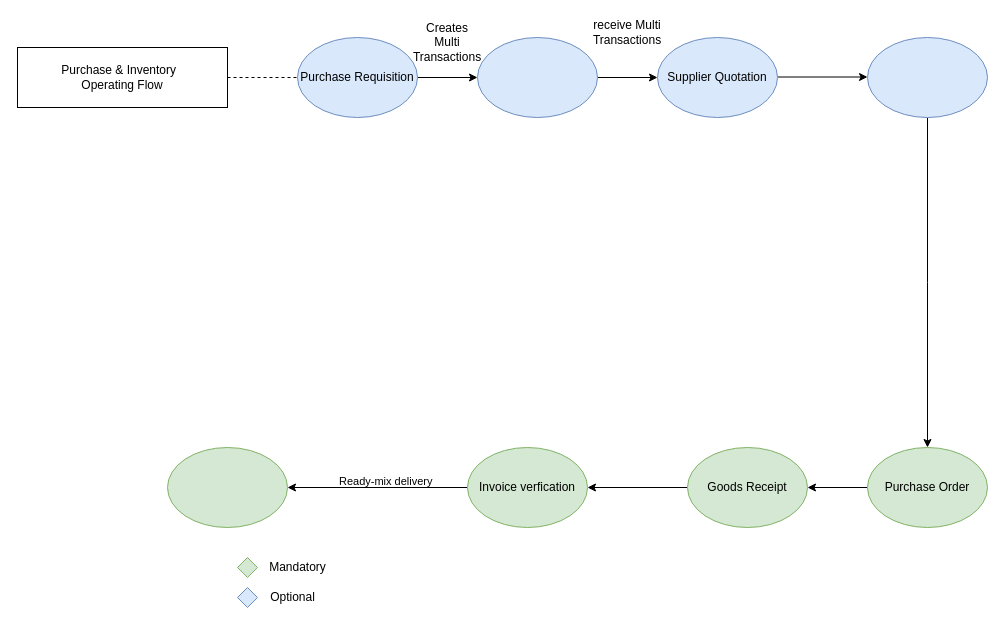
This 1005x629 diagram has some shape labels left out. The shapes that lost their labels are listed below. From the top down, each one's box as (x1, y1, x2, y2) in pixels, then its label:
(476, 36, 598, 118): Quotation Request supplier
(866, 36, 988, 118): Price Comparison
(166, 446, 288, 528): Goods Issuance
